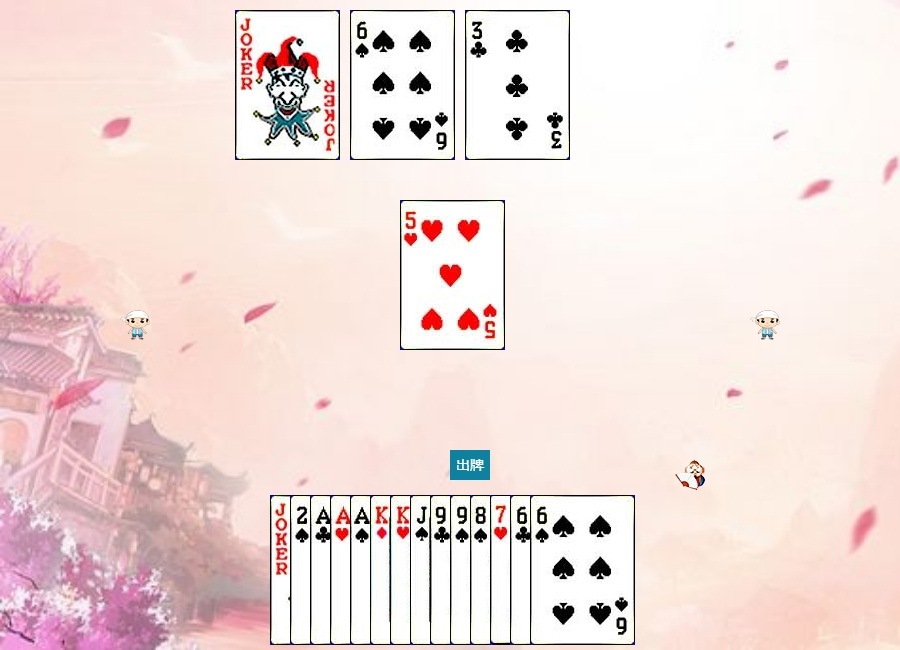11~4: (410, 495, 515, 645)
13~1: (370, 495, 475, 645)
13~3: (390, 495, 495, 645)
14~2: (310, 495, 415, 645)
14~3: (330, 495, 435, 645)
14~4: (350, 495, 455, 645)
15~4: (290, 495, 395, 645)
18~4: (235, 10, 340, 160), (270, 495, 375, 645)
3~2: (465, 10, 570, 160)
5~3: (400, 200, 505, 350)
6~2: (510, 495, 615, 645)
6~4: (350, 10, 455, 160), (530, 495, 635, 645)
7~3: (490, 495, 595, 645)
8~4: (470, 495, 575, 645)
9~2: (430, 495, 535, 645)
9~4: (450, 495, 555, 645)
